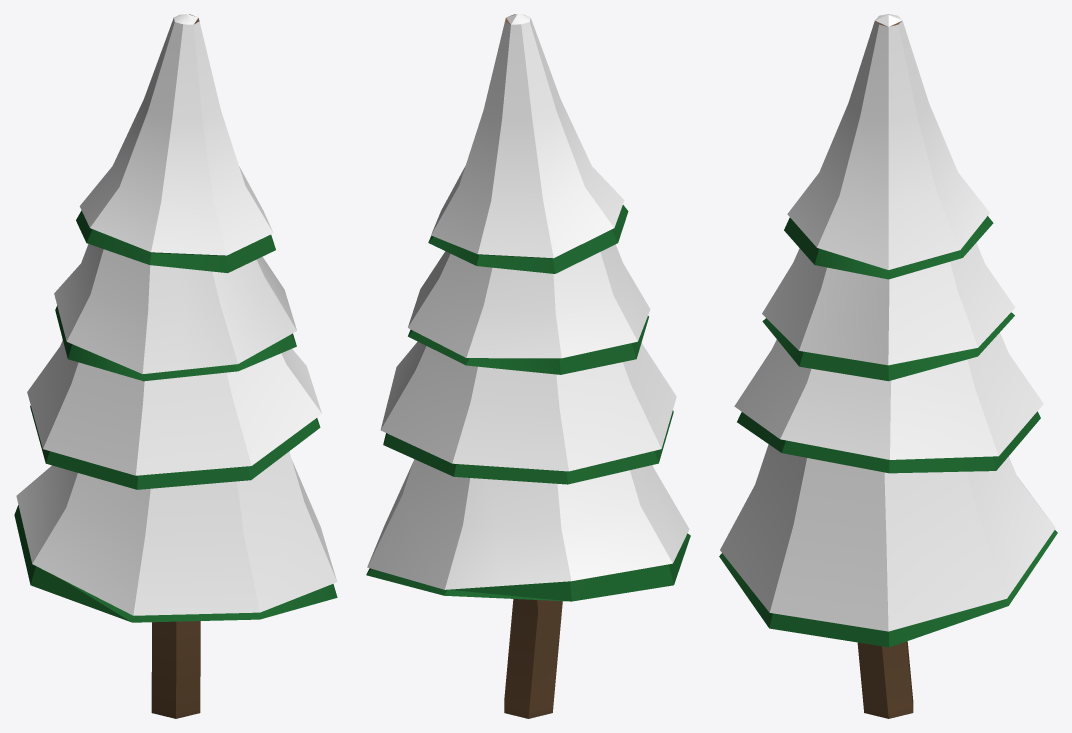
The model's file is SAPIN GRAND.fbx.
3 views of the same model, side by side, from view 1: azimuth 30°, elevation 25°; view 2: azimuth 150°, elevation 25°; view 3: azimuth 270°, elevation 25° (orthographic).
Parts seen in each view (by area): view 1: spin neige 2; view 2: spin neige 2; view 3: spin neige 2.
Boxes of the visible parts, x1=… form: spin neige 2: x1=14, y1=14, x2=337, y2=718; spin neige 2: x1=366, y1=14, x2=690, y2=718; spin neige 2: x1=719, y1=14, x2=1057, y2=718.
Bounding box in the file's own units: 261 × 592 × 261.
